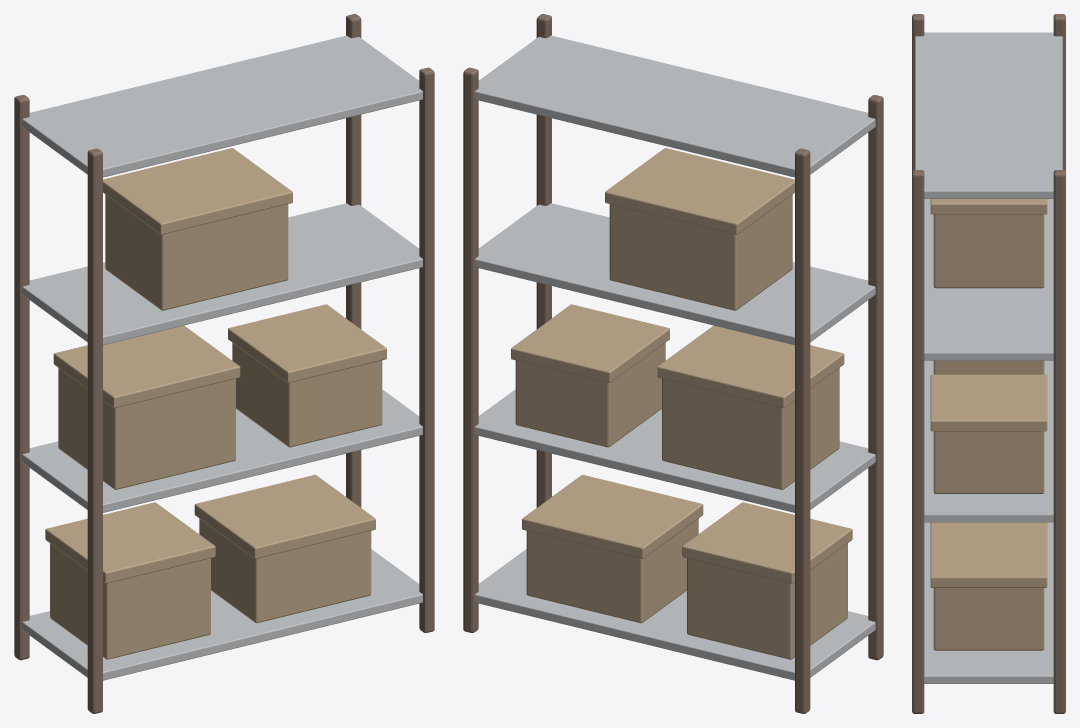
The model's file is shelving_metal_boxes.glb.
3 views of the same model, side by side, from view 1: azimuth 30°, elevation 25°; view 2: azimuth 150°, elevation 25°; view 3: azimuth 270°, elevation 25° (orthographic). The views are drawn at different scales.
Visible parts, largest first — view 1: RackShelf_3, RackShelf_2, Box_4, Box_2, Box_0, RackShelf_1, RackShelf_0, Box_1, BoxLid_4, Box_3, BoxLid_1, Post_-0.6_-0.23 (+6 smaller); view 2: RackShelf_3, RackShelf_2, Box_4, Box_2, Box_0, RackShelf_1, RackShelf_0, Box_1, BoxLid_4, Box_3, BoxLid_1, Post_-0.6_0.23 (+6 smaller); view 3: RackShelf_3, RackShelf_2, Box_4, BoxLid_1, Post_0.6_-0.23, Post_0.6_0.23, Box_3, Box_1, BoxLid_3, RackShelf_0, RackShelf_1, BoxLid_4 (+3 smaller).
Boxes of the visible parts, x1,y1,x2,y2 form: RackShelf_3: (22, 35, 422, 177); RackShelf_2: (22, 203, 422, 345); Box_4: (105, 194, 288, 310); Box_2: (58, 368, 235, 489); Box_0: (50, 543, 210, 659); RackShelf_1: (22, 389, 422, 512); RackShelf_0: (22, 549, 422, 680); Box_1: (199, 518, 371, 623); BoxLid_4: (103, 148, 292, 234); Box_3: (232, 343, 382, 447); BoxLid_1: (194, 475, 375, 558); Post_-0.6_-0.23: (87, 148, 102, 713); RackShelf_3: (475, 35, 875, 177); RackShelf_2: (475, 203, 875, 345); Box_4: (609, 194, 792, 310); Box_2: (662, 368, 839, 489); Box_0: (687, 543, 847, 659); RackShelf_1: (475, 389, 875, 512); RackShelf_0: (475, 549, 875, 680); Box_1: (526, 518, 698, 623); BoxLid_4: (605, 148, 794, 234); Box_3: (515, 343, 665, 447); BoxLid_1: (522, 475, 703, 558); Post_-0.6_0.23: (795, 148, 810, 713); RackShelf_3: (915, 32, 1062, 198); RackShelf_2: (924, 199, 1053, 360); Box_4: (933, 214, 1044, 288); BoxLid_1: (930, 522, 1047, 587); Post_0.6_-0.23: (912, 170, 924, 713); Post_0.6_0.23: (1053, 170, 1065, 713); Box_3: (933, 431, 1044, 493); Box_1: (933, 588, 1044, 650); BoxLid_3: (930, 374, 1047, 431); RackShelf_0: (924, 522, 1053, 683); RackShelf_1: (924, 360, 1053, 522); BoxLid_4: (930, 199, 1047, 214).
Bounding box in the file's own units: 1.24 × 1.94 × 0.5.
